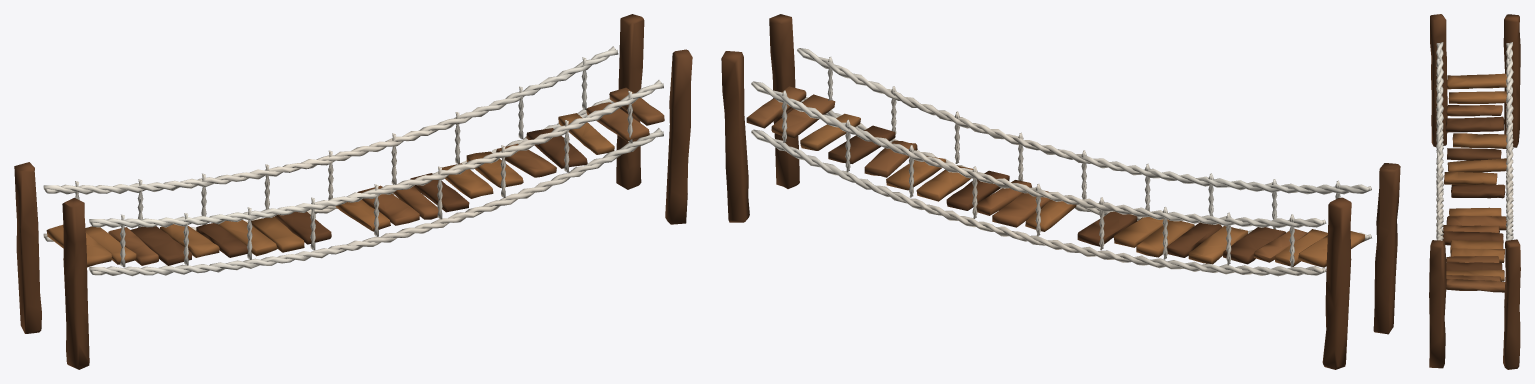
File: glade_bridge_rope.glb
The picture shows the model from 3 angles, left to right: view 1: azimuth 30°, elevation 25°; view 2: azimuth 150°, elevation 25°; view 3: azimuth 270°, elevation 25°; orthographic projection. The views are drawn at different scales.
Parts seen in each view (by area): view 1: glade_bridge_rope; view 2: glade_bridge_rope; view 3: glade_bridge_rope.
Part boxes in pixels (bbox=[...]): glade_bridge_rope: bbox=[14, 14, 692, 369]; glade_bridge_rope: bbox=[721, 14, 1400, 369]; glade_bridge_rope: bbox=[1429, 14, 1520, 369].
Size of the model in its own units: 19.76 by 5.04 by 3.29.
